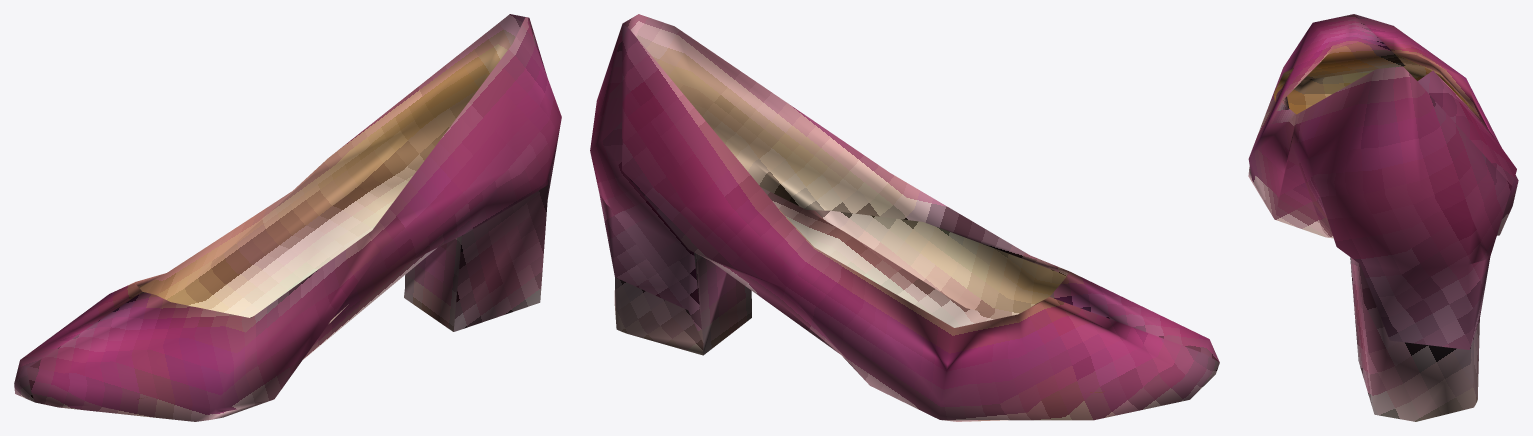
File: Chelsea_lo_fl_rdheel_nQ0LPNF1oMw-low.glb
The picture shows the model from 3 angles, left to right: view 1: azimuth 30°, elevation 25°; view 2: azimuth 150°, elevation 25°; view 3: azimuth 270°, elevation 25°; orthographic projection. The views are drawn at different scales.
Parts seen in each view (by area): view 1: Chelsea_lo_fl_rdheel_nQ0LPNF1oMw; view 2: Chelsea_lo_fl_rdheel_nQ0LPNF1oMw; view 3: Chelsea_lo_fl_rdheel_nQ0LPNF1oMw.
Part boxes in pixels (box(x1,y1,x2,y2)): Chelsea_lo_fl_rdheel_nQ0LPNF1oMw: box(14, 14, 561, 421); Chelsea_lo_fl_rdheel_nQ0LPNF1oMw: box(590, 14, 1219, 421); Chelsea_lo_fl_rdheel_nQ0LPNF1oMw: box(1248, 14, 1518, 421).
Bounding box in the file's own units: 0.2559 × 0.1227 × 0.086.
Materials: 1 (1 with a texture image).
